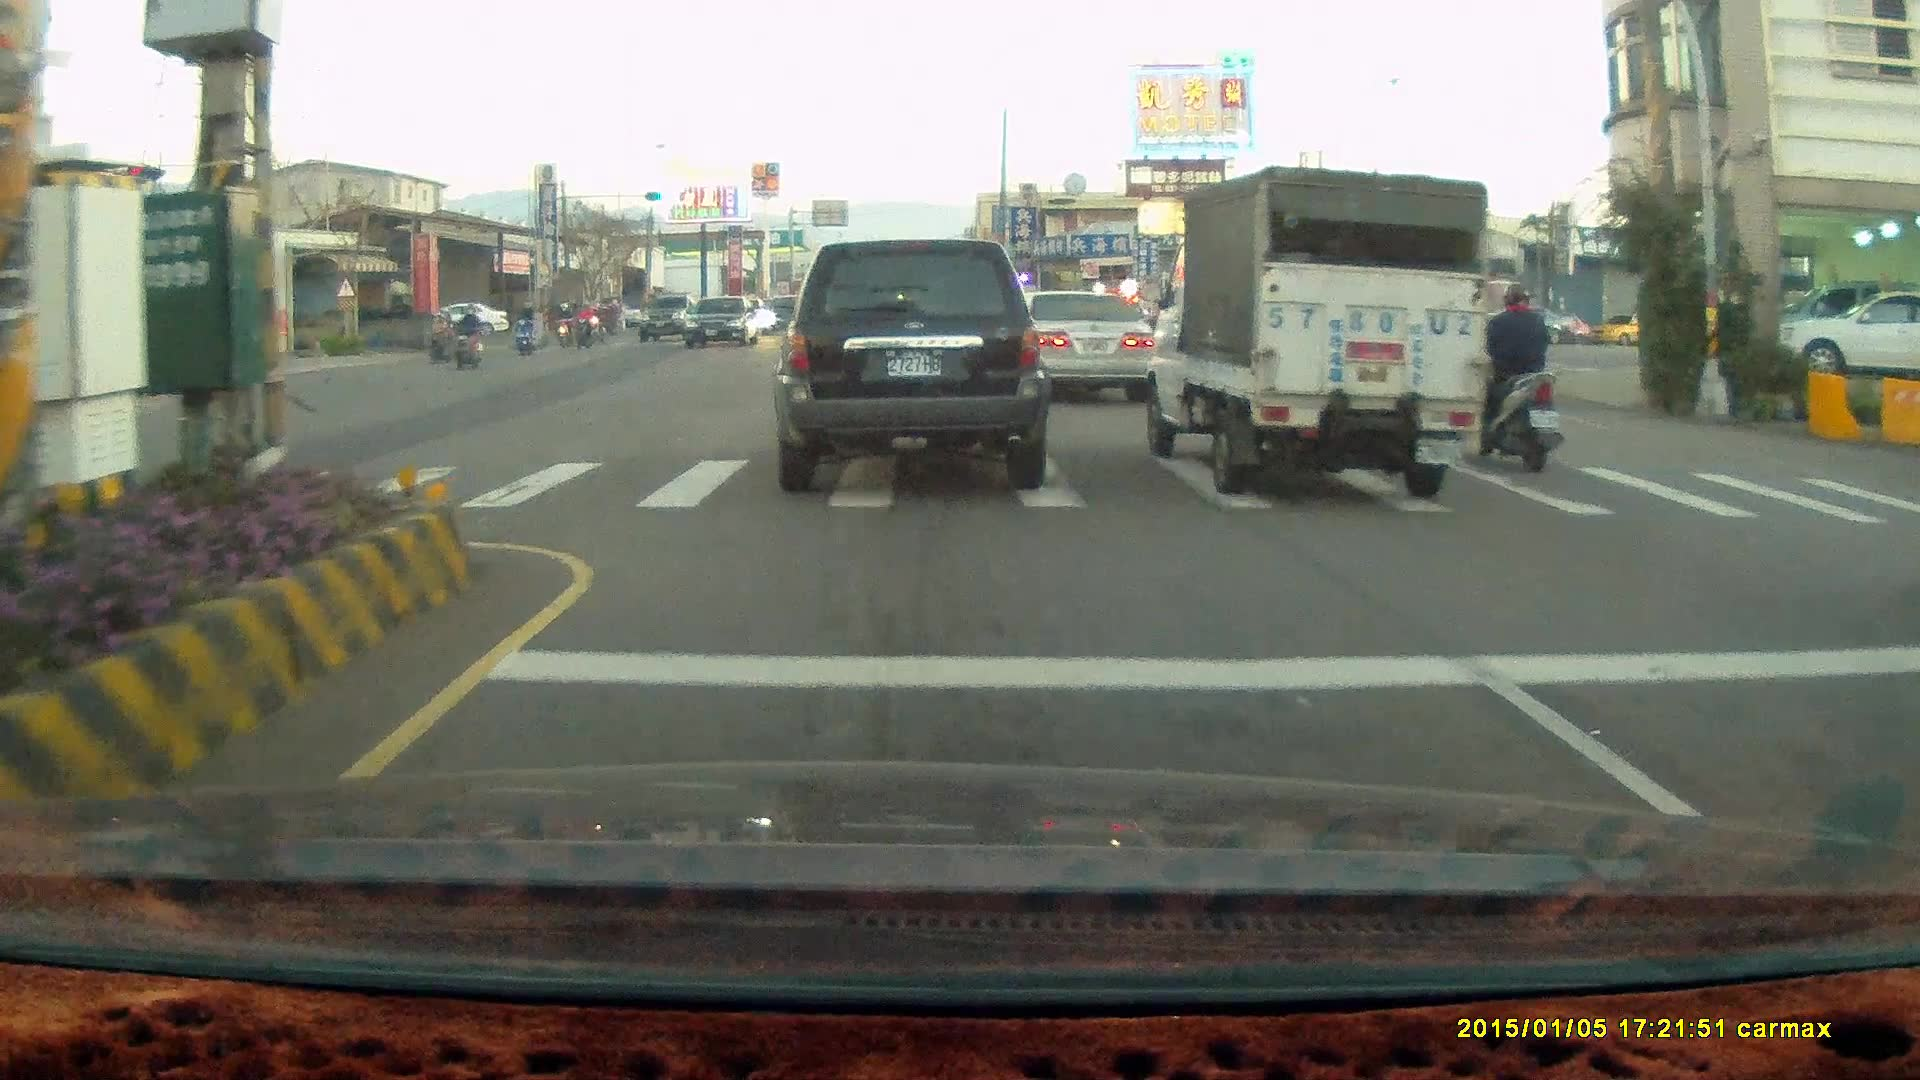rider: (1450, 281, 1567, 480), (423, 302, 457, 359), (455, 308, 486, 364), (571, 296, 599, 348), (511, 298, 537, 356), (549, 297, 575, 344)
vehicle: (1141, 162, 1488, 497), (772, 235, 1053, 492), (997, 288, 1151, 401), (1022, 290, 1156, 409), (1774, 286, 1920, 382), (1783, 286, 1920, 382), (48, 314, 147, 395), (684, 295, 761, 352), (435, 302, 511, 340)
